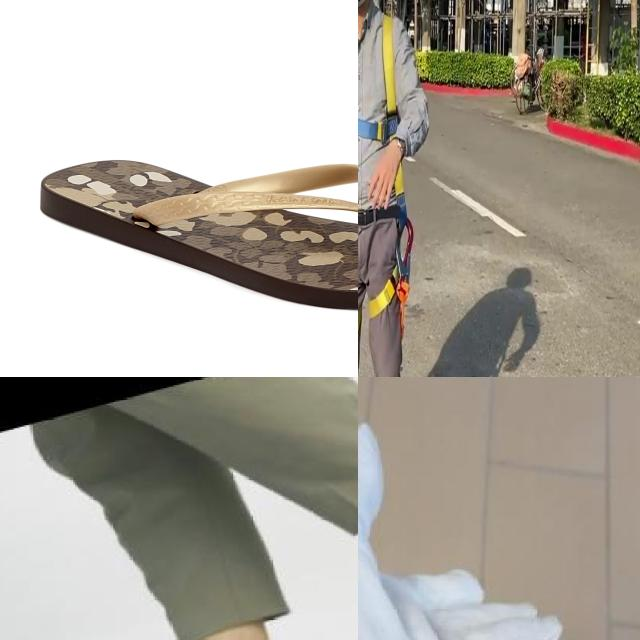Harness: (358, 174, 415, 339), (358, 15, 400, 145)
Sandals: (36, 156, 358, 312)
